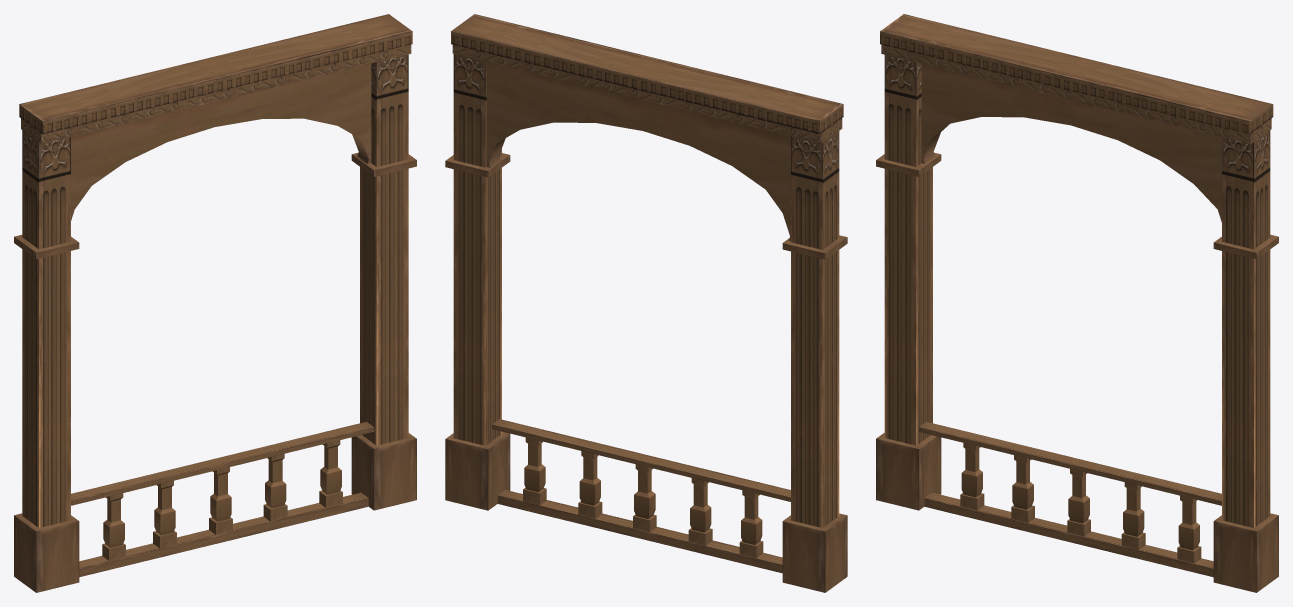
The model's file is wood pillar.fbx.
3 views of the same model, side by side, from view 1: azimuth 30°, elevation 25°; view 2: azimuth 150°, elevation 25°; view 3: azimuth 330°, elevation 25° (orthographic).
Visible parts, largest first — view 1: polySurface607, polySurface609, polySurface593, polySurface595, polySurface602, polySurface594, polySurface596, polySurface600, polySurface601, polySurface597, polySurface598, polySurface599; view 2: polySurface607, polySurface609, polySurface595, polySurface593, polySurface602, polySurface594, polySurface596, polySurface598, polySurface600, polySurface597, polySurface599, polySurface601; view 3: polySurface609, polySurface607, polySurface593, polySurface595, polySurface602, polySurface594, polySurface596, polySurface600, polySurface601, polySurface597, polySurface598, polySurface599.
Boxes of the visible parts, bbox=[...] form: polySurface607: bbox=[14, 130, 79, 592]; polySurface609: bbox=[351, 54, 416, 510]; polySurface593: bbox=[19, 14, 412, 134]; polySurface595: bbox=[71, 63, 371, 220]; polySurface602: bbox=[79, 492, 368, 577]; polySurface594: bbox=[21, 44, 411, 143]; polySurface596: bbox=[71, 421, 374, 505]; polySurface600: bbox=[263, 454, 287, 521]; polySurface601: bbox=[319, 440, 342, 507]; polySurface597: bbox=[102, 493, 125, 560]; polySurface598: bbox=[153, 481, 176, 548]; polySurface599: bbox=[209, 467, 232, 534]; polySurface607: bbox=[782, 131, 847, 592]; polySurface609: bbox=[445, 54, 510, 510]; polySurface595: bbox=[486, 62, 790, 241]; polySurface593: bbox=[451, 14, 843, 133]; polySurface602: bbox=[497, 490, 782, 573]; polySurface594: bbox=[452, 44, 842, 143]; polySurface596: bbox=[492, 419, 790, 501]; polySurface598: bbox=[688, 478, 712, 545]; polySurface600: bbox=[578, 451, 602, 518]; polySurface597: bbox=[739, 490, 763, 558]; polySurface599: bbox=[633, 464, 656, 532]; polySurface601: bbox=[523, 437, 546, 505]; polySurface609: bbox=[1213, 130, 1278, 592]; polySurface607: bbox=[876, 54, 941, 510]; polySurface593: bbox=[880, 14, 1273, 134]; polySurface595: bbox=[921, 64, 1221, 222]; polySurface602: bbox=[924, 492, 1213, 577]; polySurface594: bbox=[881, 44, 1271, 143]; polySurface596: bbox=[918, 421, 1221, 505]; polySurface600: bbox=[1121, 482, 1145, 549]; polySurface601: bbox=[1177, 495, 1201, 563]; polySurface597: bbox=[960, 443, 984, 510]; polySurface598: bbox=[1011, 455, 1034, 522]; polySurface599: bbox=[1067, 469, 1090, 536].
Bounding box in the file's own units: 385 × 456 × 41.57.
Materials: 1 (1 with a texture image).
